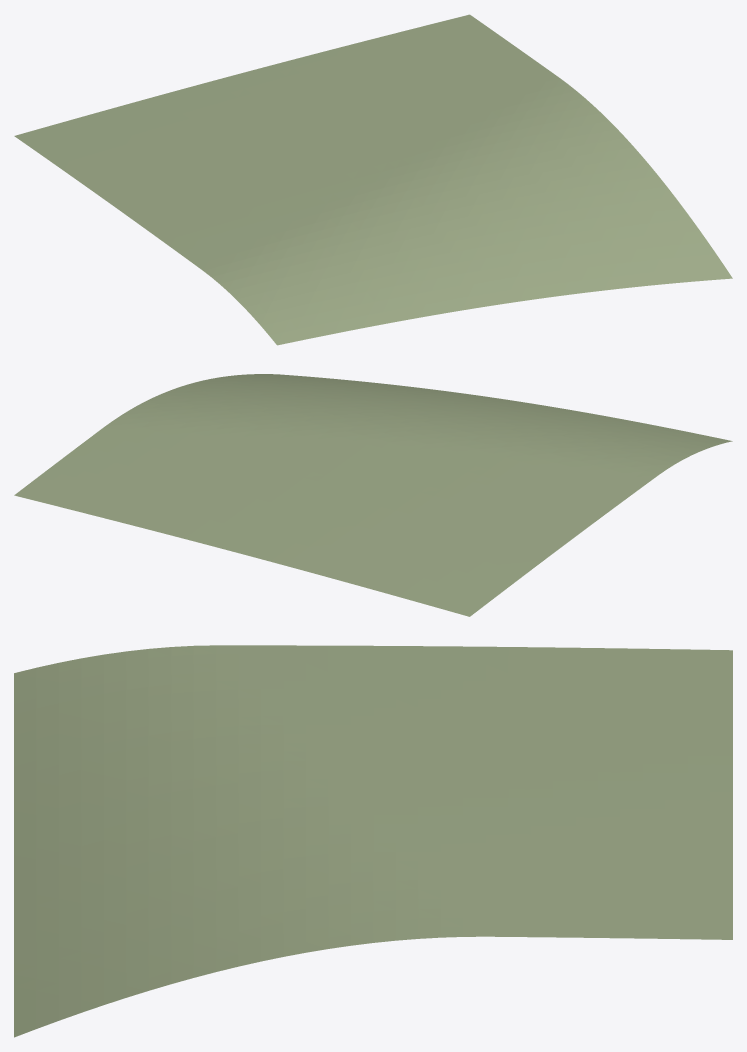
Rendered from expanse-20-8.glb.
3 views of the same model, one above another, from view 1: azimuth 30°, elevation 25°; view 2: azimuth 150°, elevation 25°; view 3: azimuth 270°, elevation 25° (orthographic). The views are drawn at different scales.
Parts seen in each view (by area): view 1: expanse-20-8; view 2: expanse-20-8; view 3: expanse-20-8.
Part boxes in pixels (left/top/right/bottom): expanse-20-8: left=14, top=14, right=732, bottom=345; expanse-20-8: left=14, top=374, right=732, bottom=616; expanse-20-8: left=14, top=645, right=732, bottom=1037.
Size of the model in its own units: 256 by 39.64 by 256.
